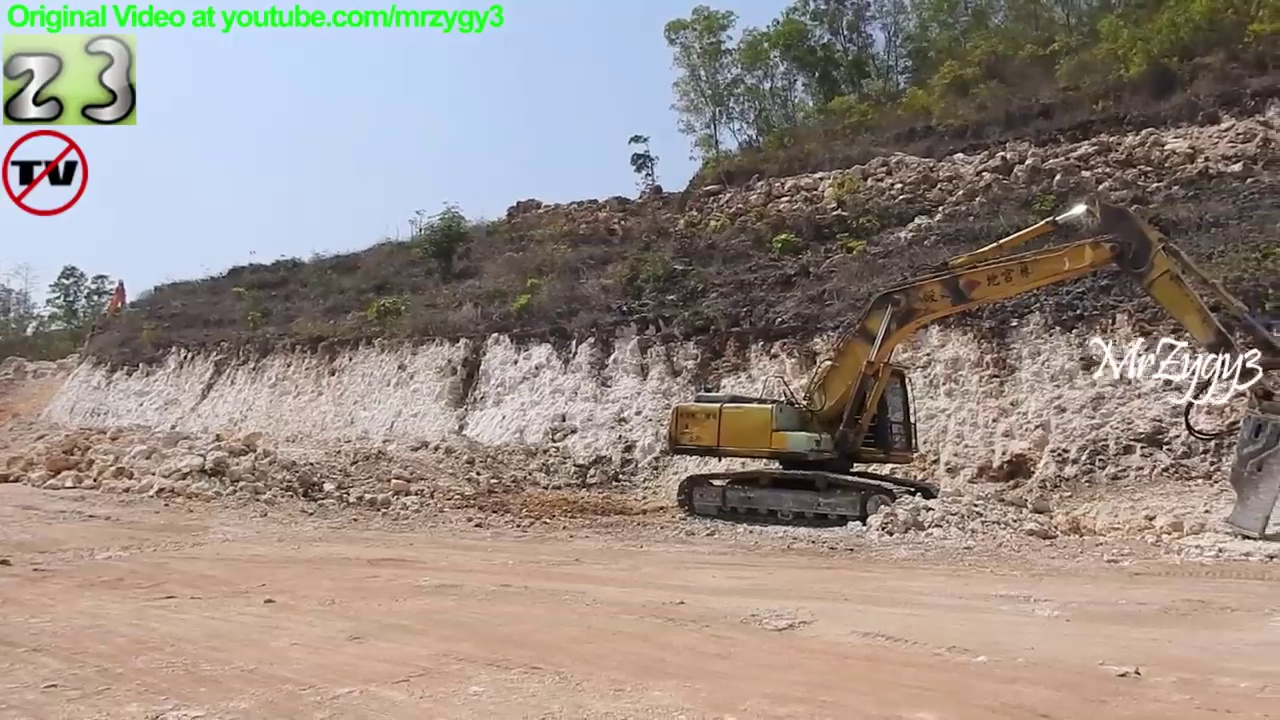excavator: (86, 276, 133, 365)
excavator breaker: (660, 192, 1280, 546)
